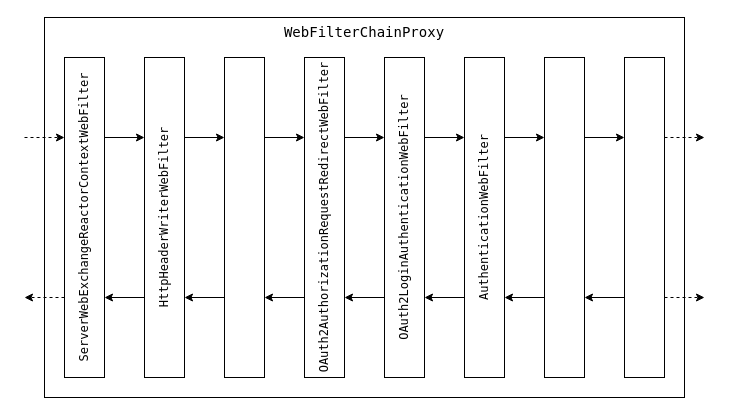
Some shapes in this 730 by 415 pixel diagram are drawn without their labels. The centre of each missing label's shape, as x and y in pixels:
"ReactorContextWebFilter" goes at point (244, 217).
"SecurityContextServerWebExchangeWebFilter" goes at point (564, 217).
"ServerRequestCacheWebFilter" goes at point (644, 217).
